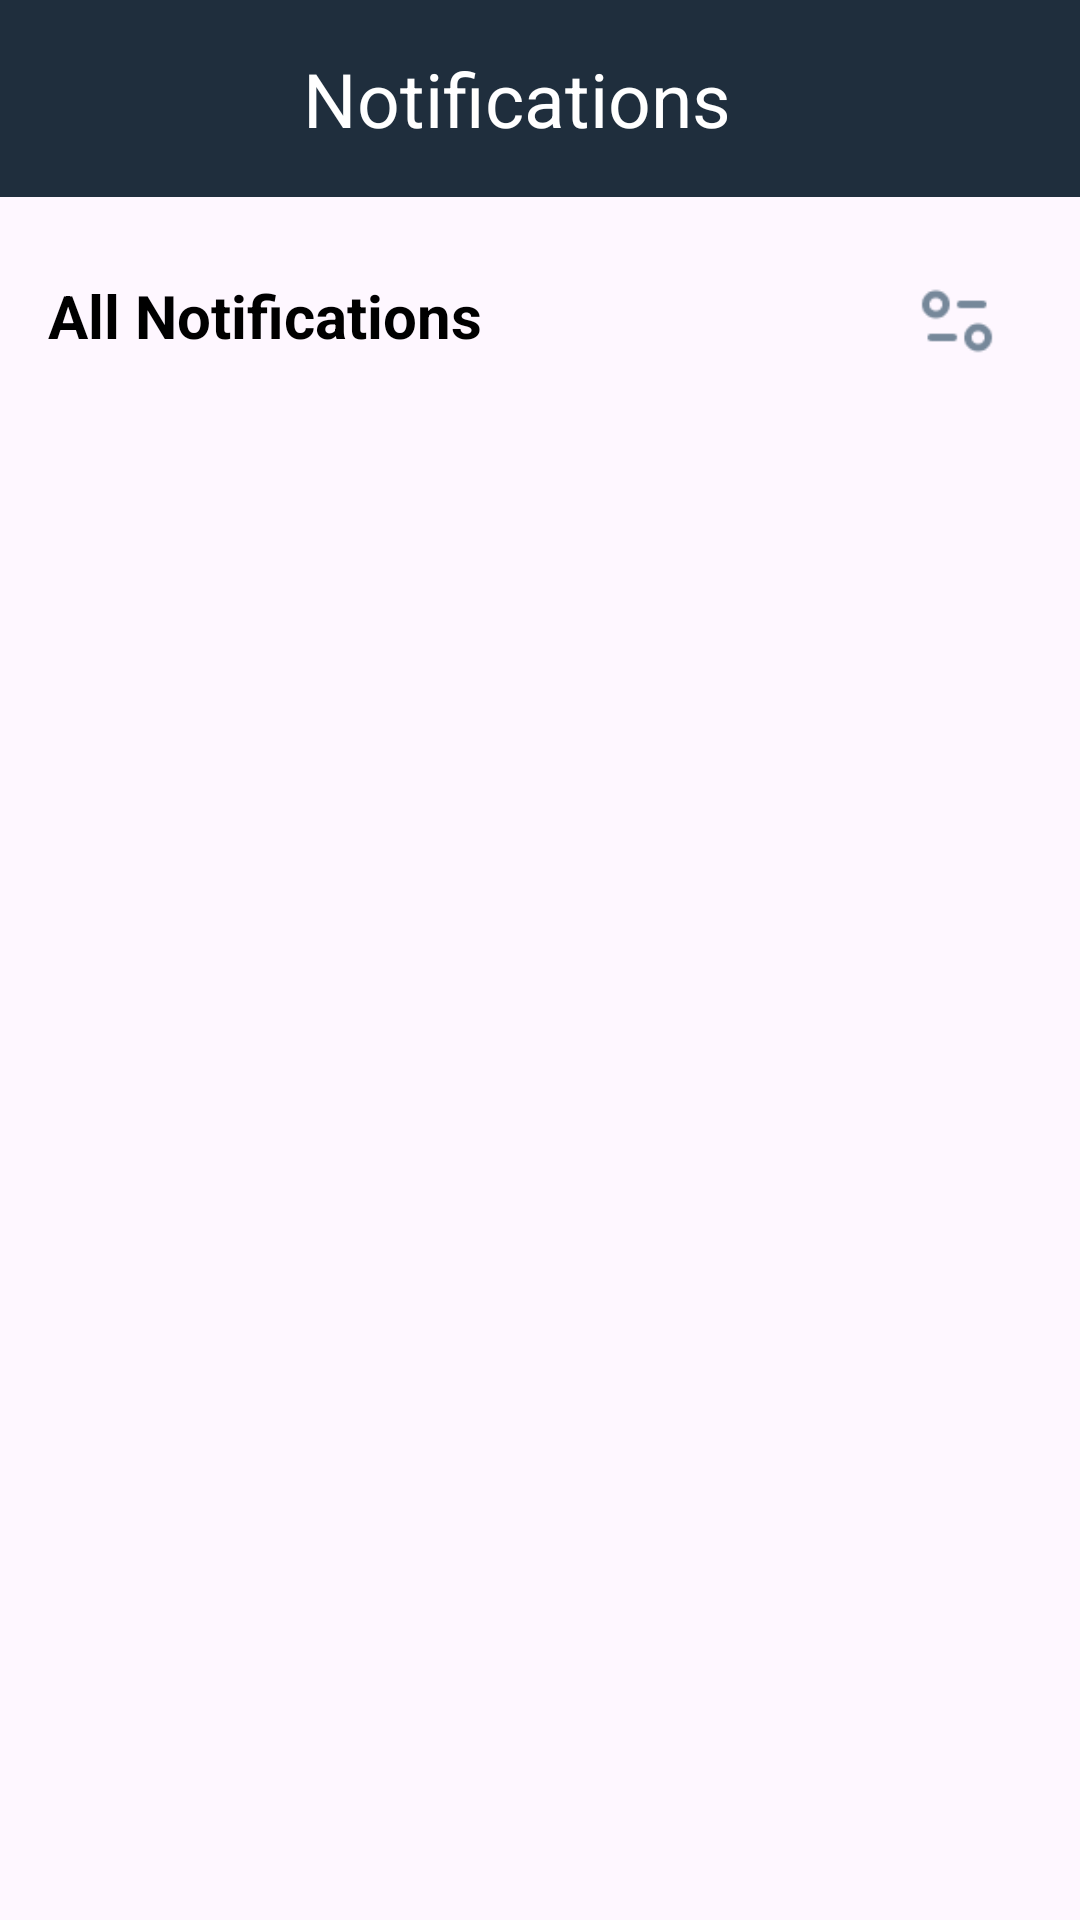

Point at icon controls on the screen. Image size 1080px×1920px, points as (x=x, y=y).
filterrr: (x=957, y=320)
